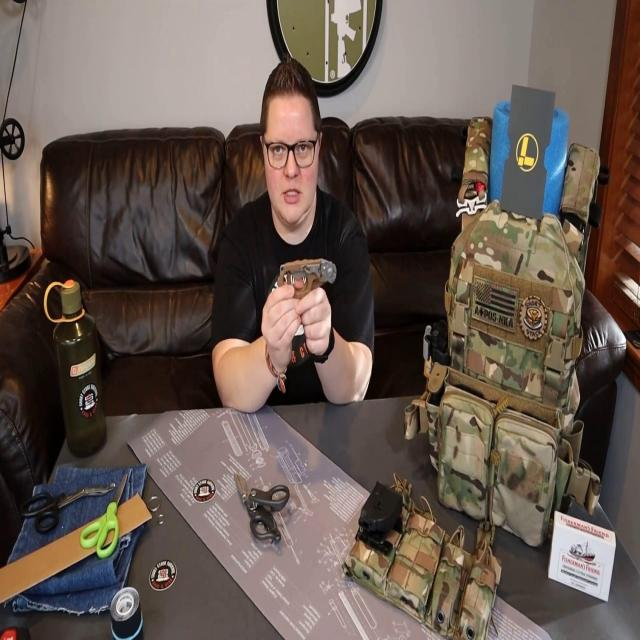scissor: (20, 481, 115, 534), (233, 472, 290, 544), (80, 472, 127, 557)
